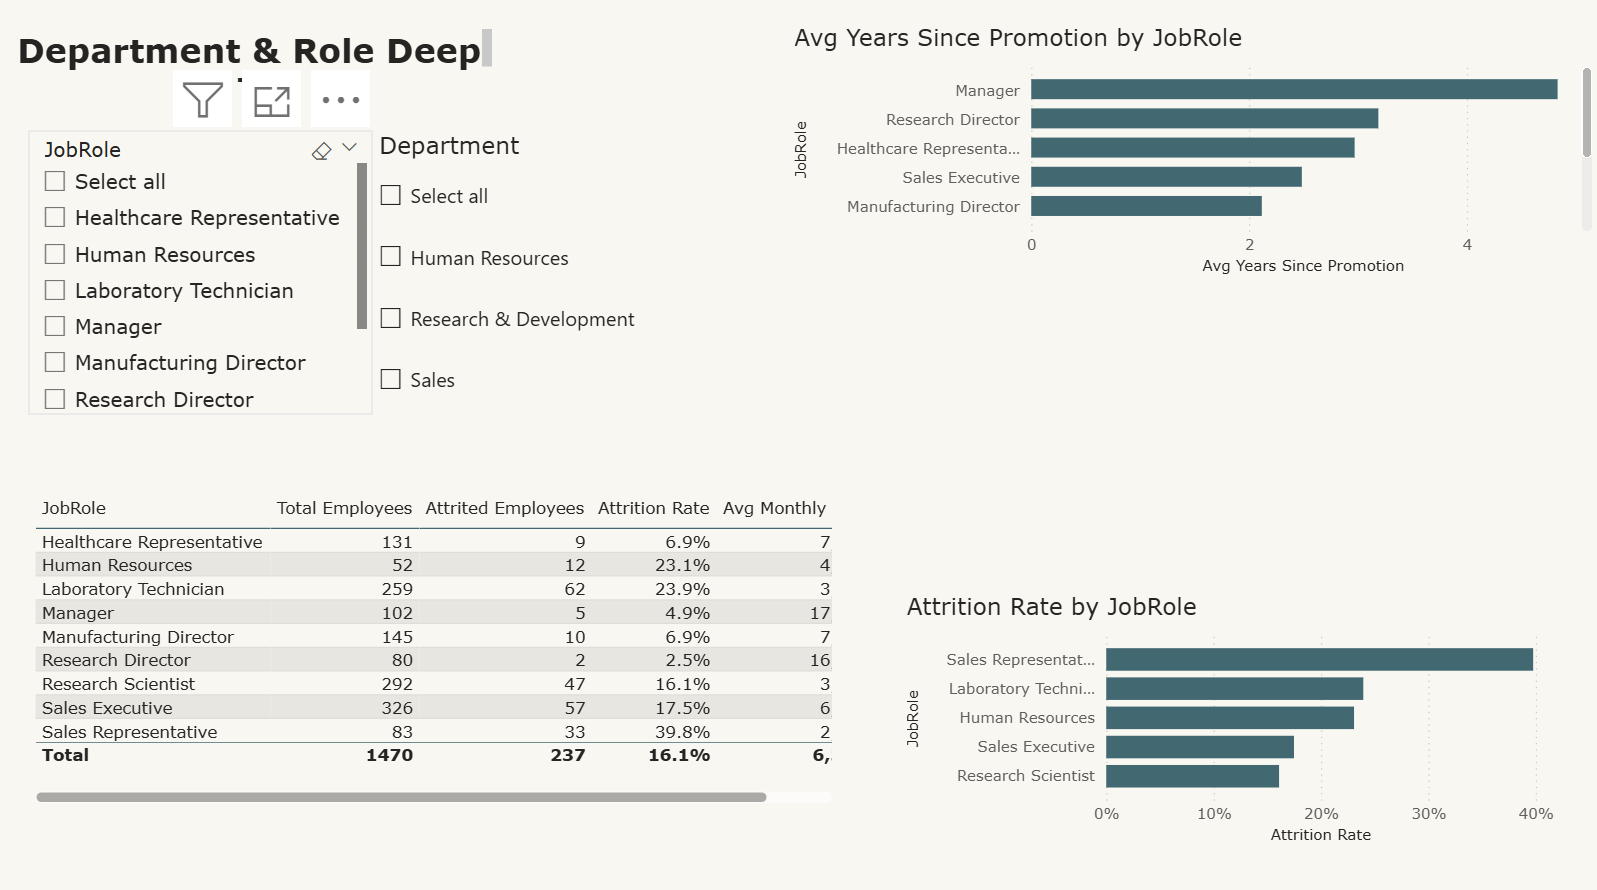

This screenshot's page, from the dashboard's own definition file:
{"tool":"powerbi","page":{"name":"Deep Dive","canvas":[1280,720],"ordinal":2},"visuals":[{"type":"textbox","box":[10,22,390,54],"z":0},{"type":"tableEx","fields":{"Values":["Employees.JobRole","Employees.Total Employees","Employees.Attrited Employees","Employees.Attrition Rate","Employees.Avg Monthly Income"]},"box":[24,396,648,256],"z":1},{"type":"clusteredBarChart","fields":{"Category":["Employees.JobRole"],"Y":["Employees.Attrition Rate"]},"box":[722,478,528,206],"z":2},{"type":"clusteredBarChart","fields":{"Category":["Employees.JobRole"],"Y":["Employees.Avg Years Since Promotion"]},"box":[632,22,648,206],"z":3},{"type":"listSlicer","fields":{"Values":["Employees.Department"]},"box":[300,108,276,228],"z":4},{"type":"slicer","fields":{"Values":["Employees.JobRole"]},"box":[24,108,276,228],"z":5}]}

Visuals, with their boxes on the page's 1280x720 design canvas (x1, y1, x2, y2). These are canvas units, not pixel positions in the 1597x890 screenshot, which may show the page scaled, cropped or inside an application window:
textbox: x1=10, y1=22, x2=400, y2=76
tableEx - Employees.JobRole x Employees.Total Employees: x1=24, y1=396, x2=672, y2=652
clusteredBarChart - Employees.JobRole x Employees.Attrition Rate: x1=722, y1=478, x2=1250, y2=684
clusteredBarChart - Employees.JobRole x Employees.Avg Years Since Promotion: x1=632, y1=22, x2=1280, y2=228
listSlicer - Employees.Department: x1=300, y1=108, x2=576, y2=336
slicer - Employees.JobRole: x1=24, y1=108, x2=300, y2=336
